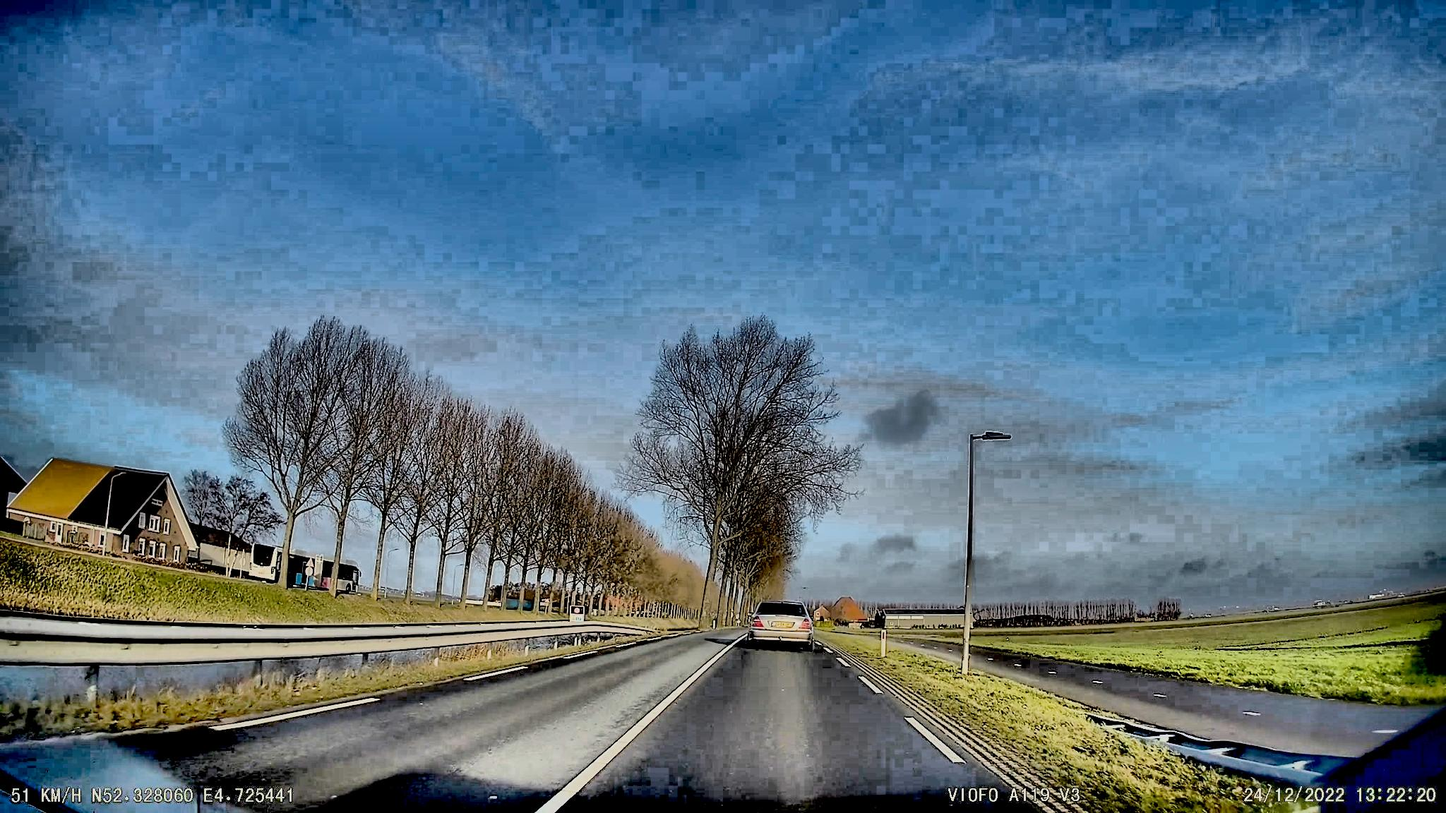Roads: (0, 635, 1064, 813)
